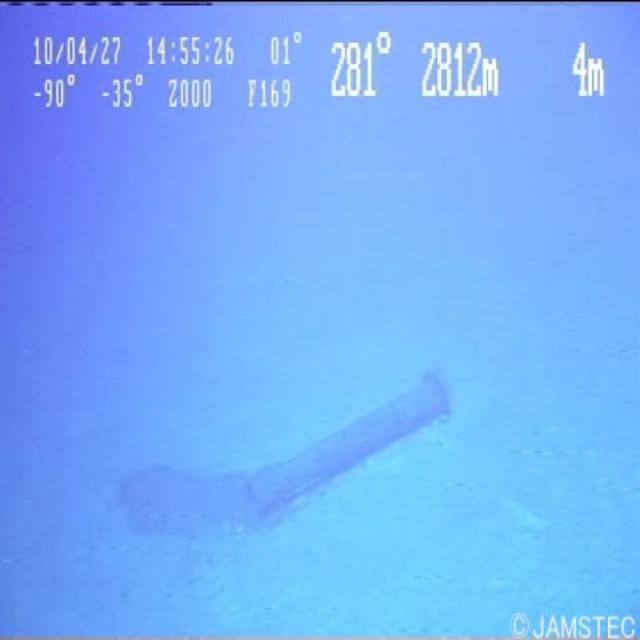Metal: (211, 359, 499, 511)
